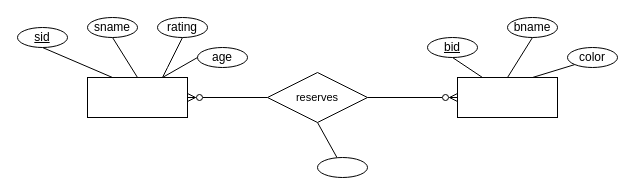
Some shapes in this 635 by 195 pixel diagram are drawn without their labels. The centre of each missing label's shape, as x and y in pixels:
"Boats" belongs at [507,97].
"day" belongs at [342,167].
"Sailor" belongs at [137,97].
